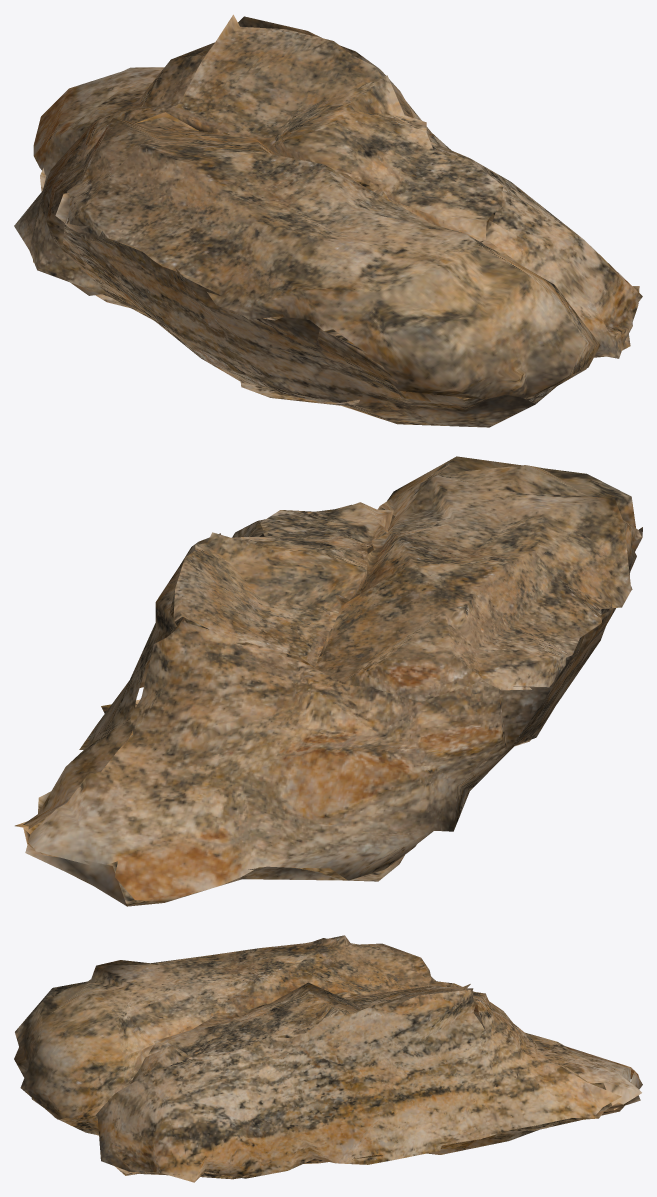
File: SM_CinderScenery_Debris.fbx
The picture shows the model from 3 angles, top to bottom: view 1: azimuth 30°, elevation 25°; view 2: azimuth 150°, elevation 25°; view 3: azimuth 270°, elevation 25°; orthographic projection. The views are drawn at different scales.
Parts seen in each view (by area): view 1: SM_CinderScenery_Debris; view 2: SM_CinderScenery_Debris; view 3: SM_CinderScenery_Debris.
Part boxes in pixels (box(x1,y1,x2,y2)): SM_CinderScenery_Debris: box(14, 14, 642, 427); SM_CinderScenery_Debris: box(15, 456, 642, 906); SM_CinderScenery_Debris: box(14, 935, 642, 1182).
Bounding box in the file's own units: 61.24 × 100 × 27.66.
